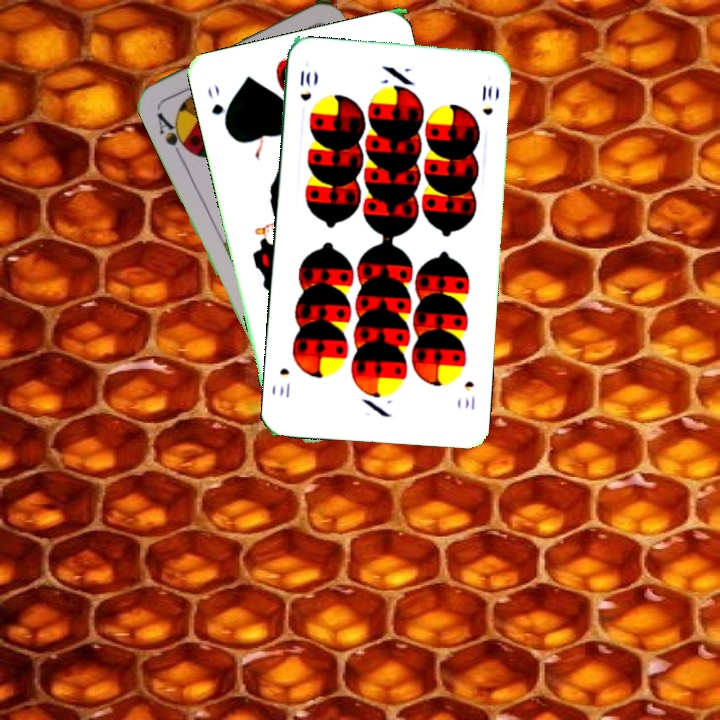GO: (203, 80, 231, 134)
S10: (296, 66, 314, 104), (460, 377, 478, 413)
SA: (153, 108, 192, 159)
